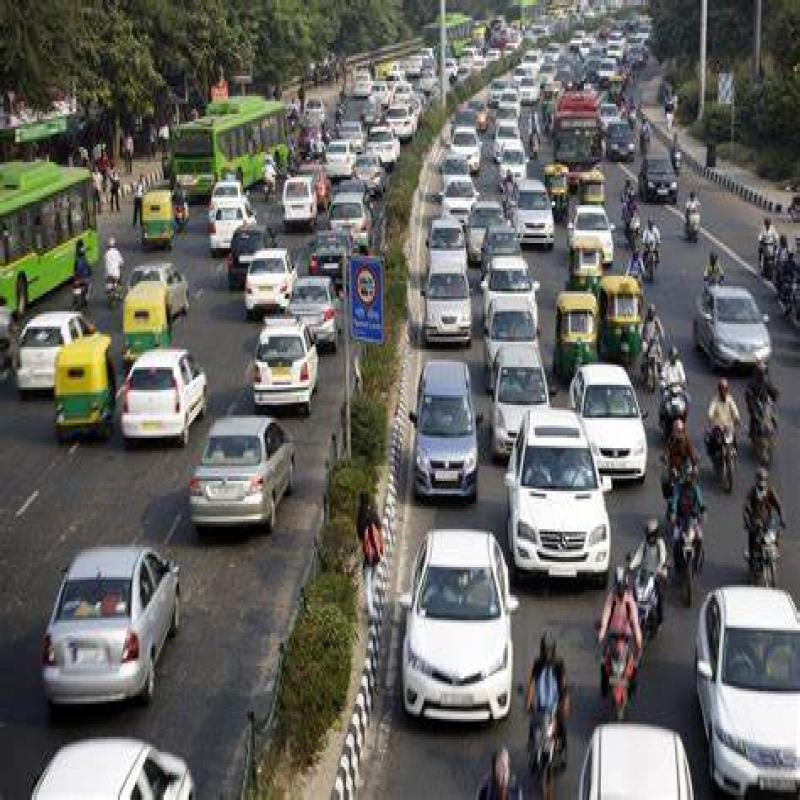auto: (46, 330, 118, 446), (107, 282, 177, 360), (132, 180, 173, 257)
bus: (0, 152, 115, 344), (159, 107, 298, 184)
car: (495, 398, 640, 635), (397, 510, 522, 768), (34, 525, 179, 718), (693, 539, 800, 800), (186, 388, 286, 551), (404, 352, 489, 514), (689, 262, 779, 388)
